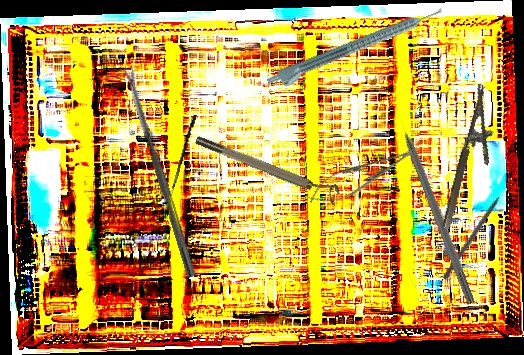Fixation Ring: (193, 127, 343, 206)
Handpiece: (264, 4, 448, 95)
Hook Surgical: (392, 106, 478, 306), (441, 185, 510, 281), (166, 114, 197, 211)
Needle Holder: (440, 83, 508, 235), (303, 136, 425, 214)
Surgical Spoon: (123, 65, 198, 279)
